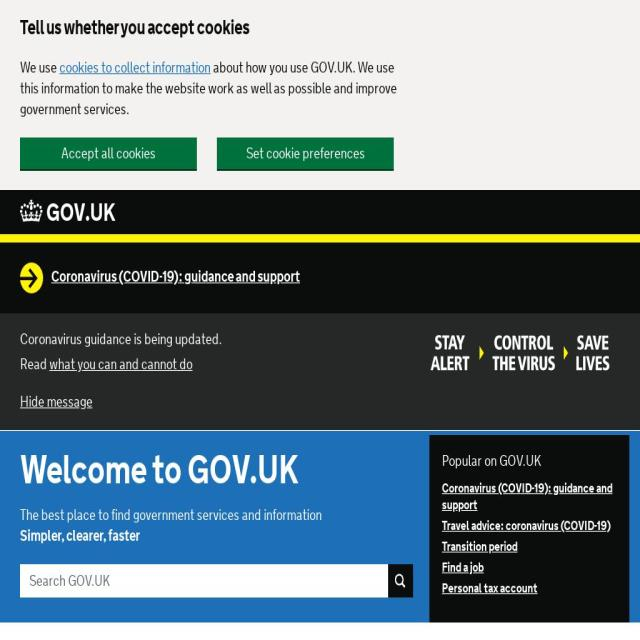button: (20, 138, 198, 169), (216, 138, 394, 169), (51, 268, 300, 288), (20, 198, 116, 228), (20, 392, 92, 413), (388, 564, 413, 598)
field: (20, 564, 388, 598)
heading: (20, 452, 414, 493), (20, 16, 401, 42), (442, 452, 617, 472)
image: (430, 334, 610, 372), (20, 198, 42, 224)
label: (29, 565, 110, 598)
link: (442, 480, 613, 514), (60, 58, 210, 79), (49, 354, 192, 376), (442, 517, 611, 535), (442, 580, 538, 598), (442, 538, 518, 556), (442, 559, 484, 577)
text: (20, 57, 397, 121), (20, 526, 414, 548), (20, 330, 420, 351), (20, 506, 414, 526), (52, 267, 185, 288), (184, 267, 300, 288), (46, 197, 116, 231), (20, 58, 59, 79), (20, 354, 49, 376)
